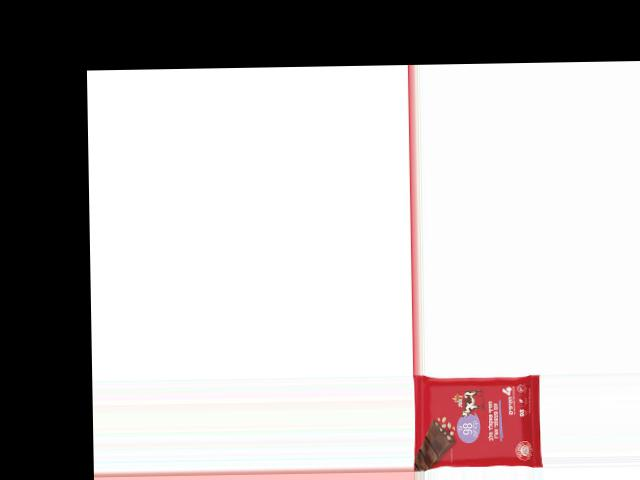chocolate: (413, 373, 543, 467)
